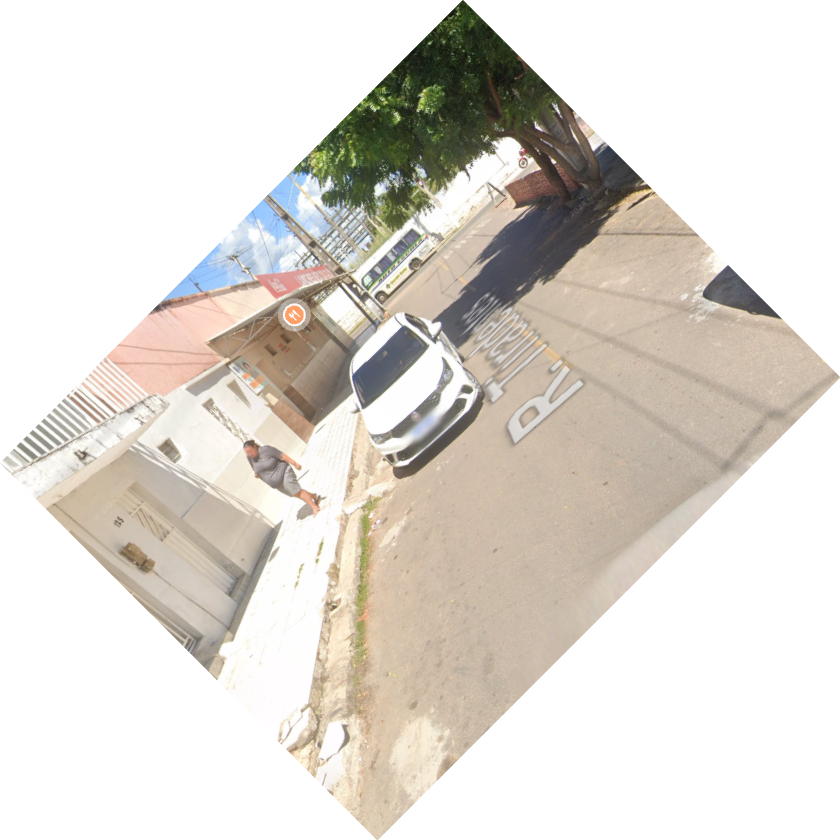car: (343, 307, 499, 489)
